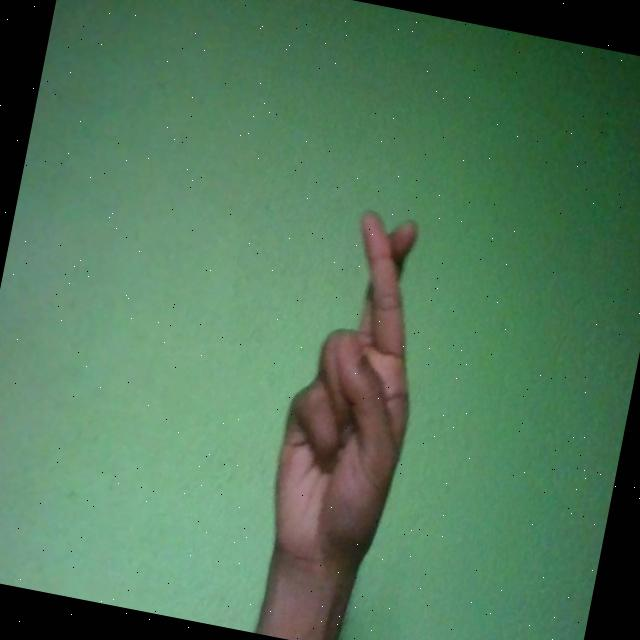Ok: (257, 202, 446, 592)
